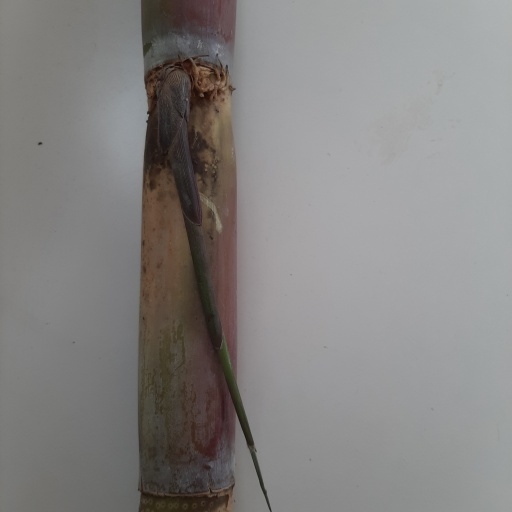Sprouted_Bud: (156, 66, 190, 130)
